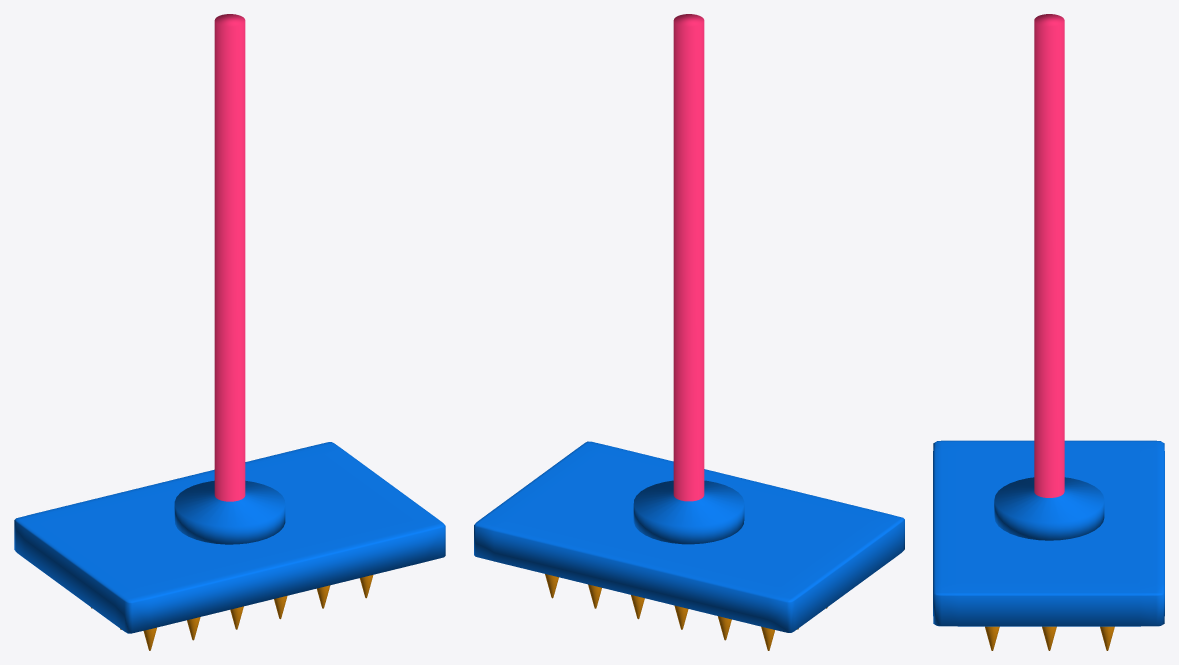
3 views of the same model, side by side, from view 1: azimuth 30°, elevation 25°; view 2: azimuth 150°, elevation 25°; view 3: azimuth 270°, elevation 25° (orthographic).
Parts seen in each view (by area): view 1: Zemin.004; view 2: Zemin.004; view 3: Zemin.004.
Part boxes in pixels (bbox=[...]): Zemin.004: bbox=[14, 14, 445, 633]; Zemin.004: bbox=[474, 14, 904, 632]; Zemin.004: bbox=[933, 14, 1164, 626].
Bounding box in the file's own units: 40.26 × 70.17 × 25.48.
